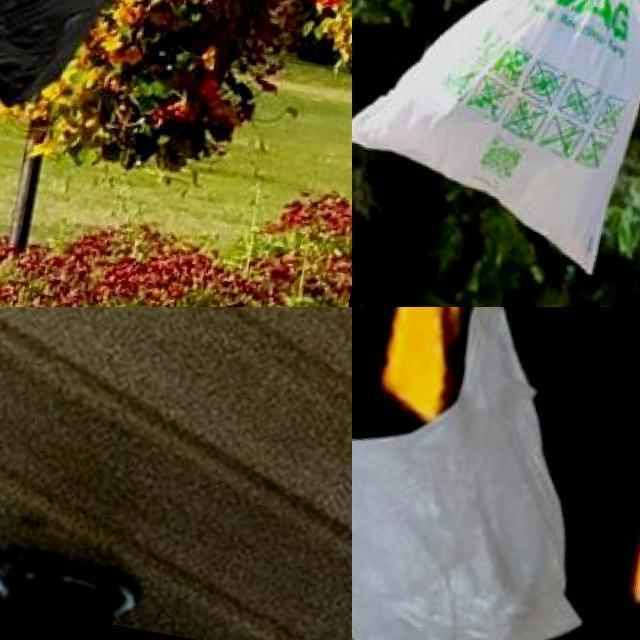waste: (352, 307, 637, 640), (352, 0, 640, 282)
